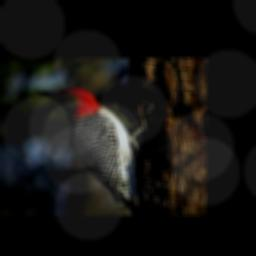Woodpecker: (35, 87, 141, 215)
